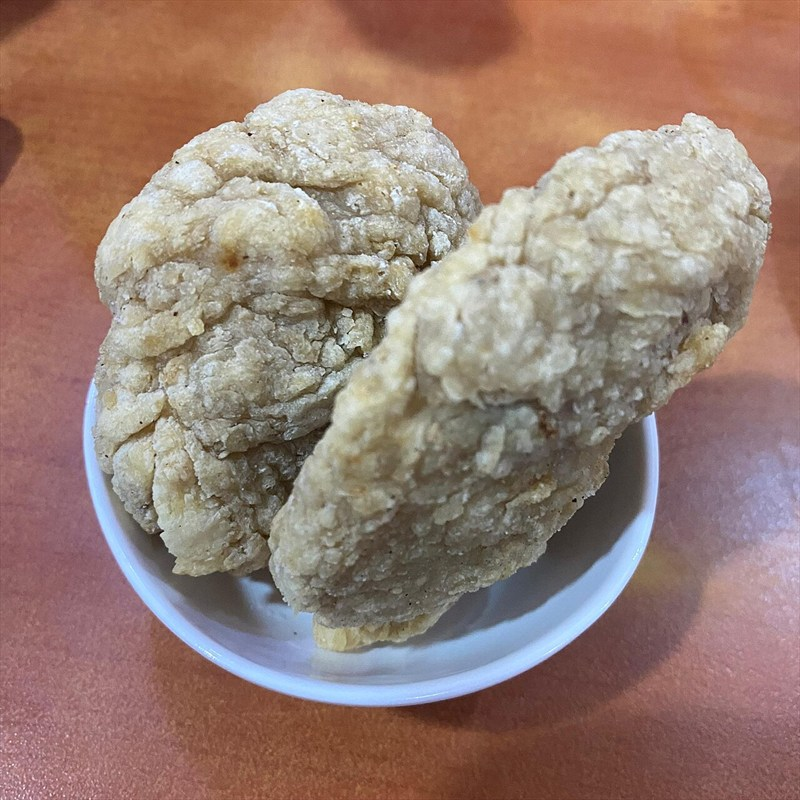Pempek: (87, 99, 678, 721)
